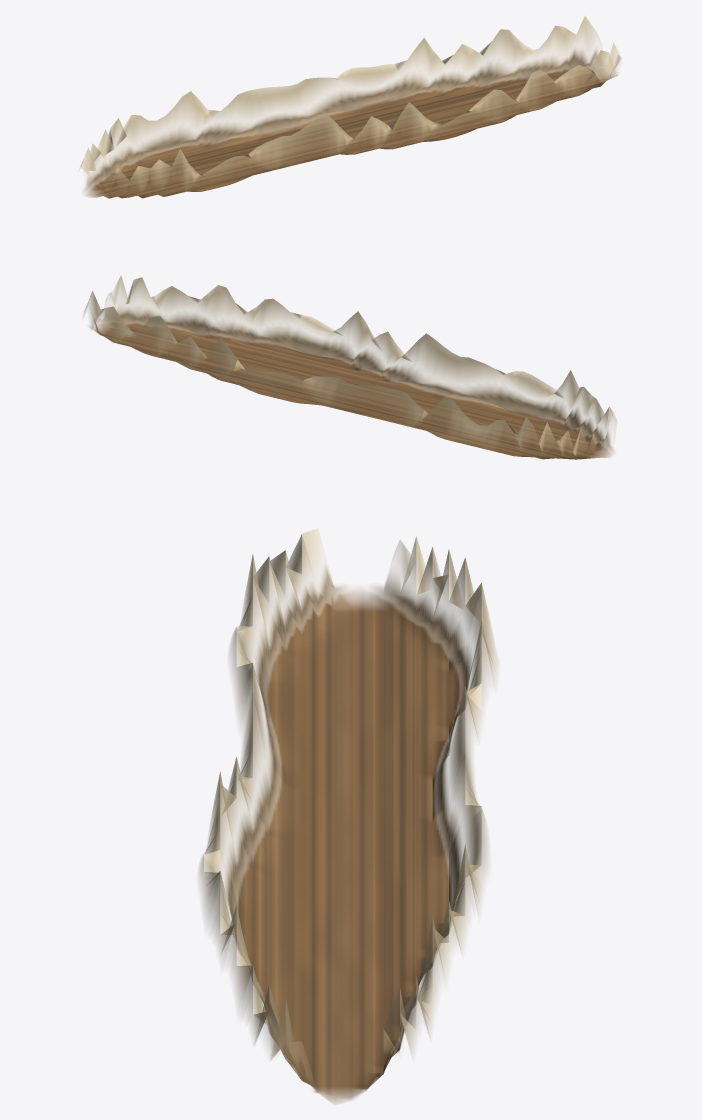
File: tool_mark.glb
3 renders of one model, top to bottom at view 1: azimuth 30°, elevation 25°; view 2: azimuth 150°, elevation 25°; view 3: azimuth 270°, elevation 25°, orthographic. The views are drawn at different scales.
Visible parts, largest first — view 1: tool_mark; view 2: tool_mark; view 3: tool_mark.
Part boxes in pixels (<box>): tool_mark: <box>80,16,621,198</box>; tool_mark: <box>83,275,617,459</box>; tool_mark: <box>199,528,498,1104</box>.
Bounding box in the file's own units: 0.12 × 0.0114 × 0.05.
Materials: 1 (1 with a texture image).
